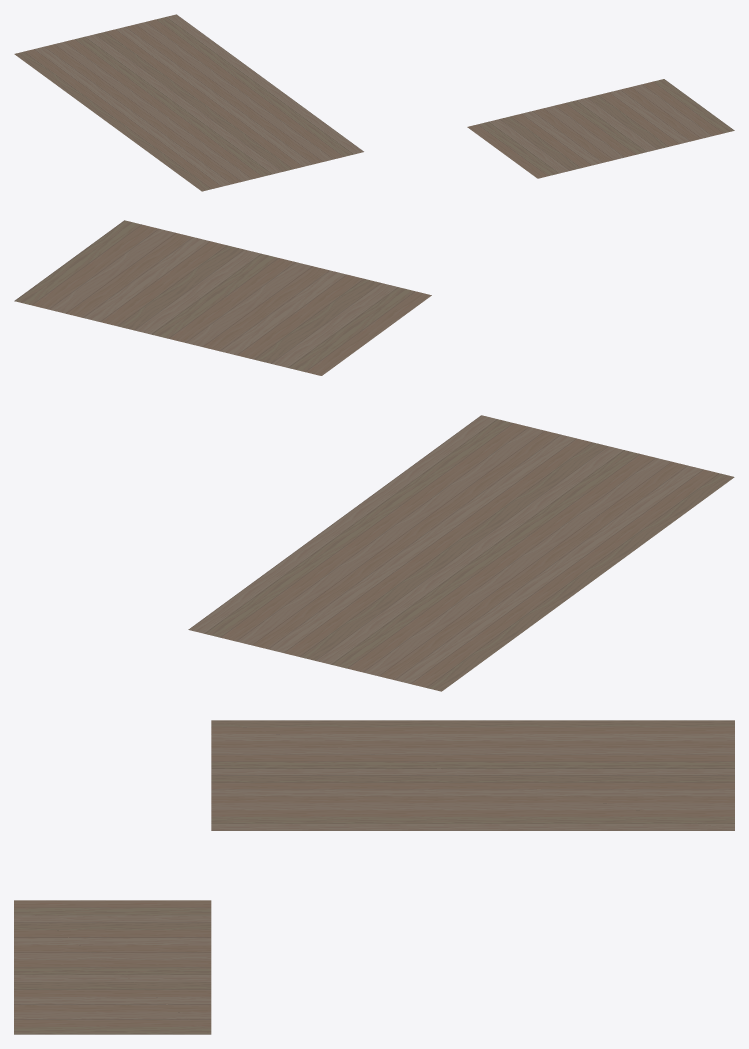
File: kd_stage_135d18_4_23_bounded.glb
The picture shows the model from 3 angles, top to bottom: view 1: azimuth 30°, elevation 25°; view 2: azimuth 150°, elevation 25°; view 3: azimuth 270°, elevation 25°; orthographic projection. The views are drawn at different scales.
Parts seen in each view (by area): view 1: kd_stage_135d18_4_23_bounded; view 2: kd_stage_135d18_4_23_bounded; view 3: kd_stage_135d18_4_23_bounded.
Part boxes in pixels (<box>): kd_stage_135d18_4_23_bounded: <box>14,14,734,191</box>; kd_stage_135d18_4_23_bounded: <box>14,220,734,691</box>; kd_stage_135d18_4_23_bounded: <box>14,720,734,1034</box>.
Bounding box in the file's own units: 5.4 × 0.000136 × 5.23.
1 material, 1 textured.
